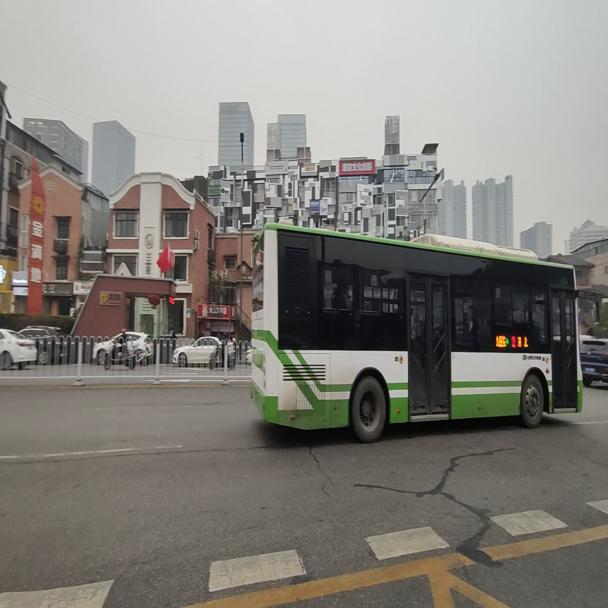bus: (249, 227, 586, 445)
screen: (508, 328, 519, 351)
